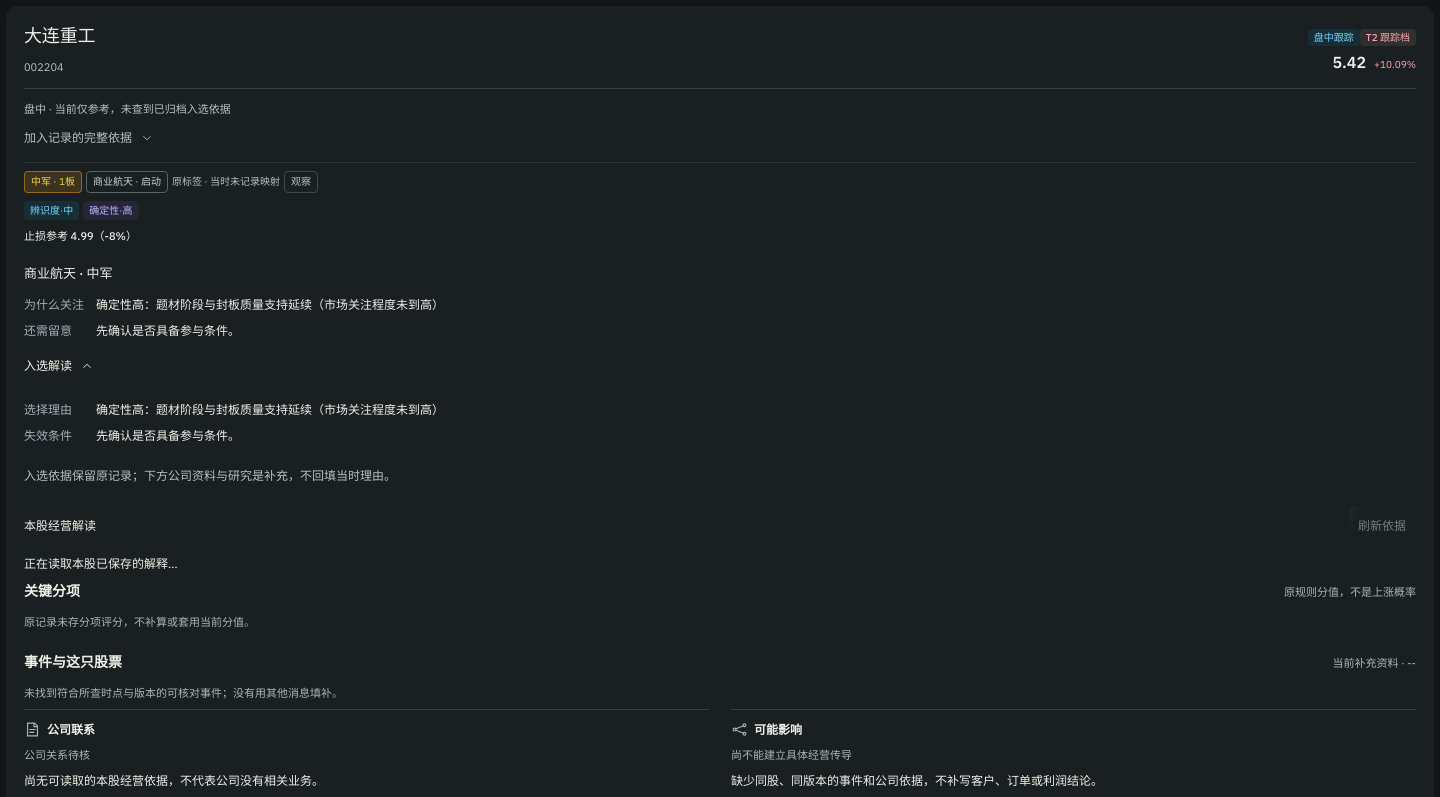
首次加入记录的来源与参考身份 › explains an unarchived reference without implying it was never selected or copying its current price
Check: the element named "盘中首次加入记录" shows "当前仅参考，未查到已归档入选依据", box [46,102,231,116]
Click the button "加入记录的完整依据" at (89, 138), box [24,122,154,154]
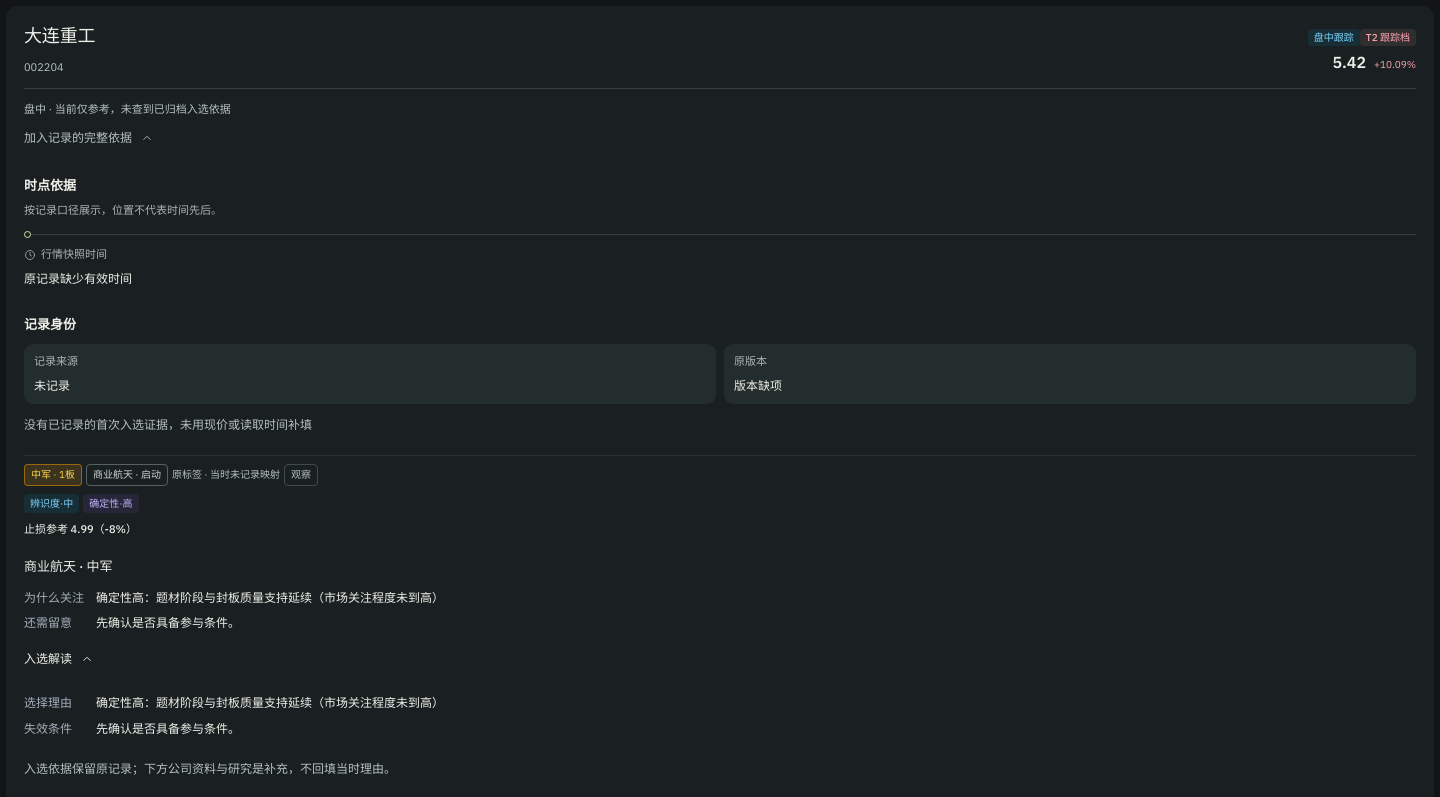
Check: the element named "盘中首次加入记录" shows "未用现价或读取时间补填", box [24,418,312,432]
